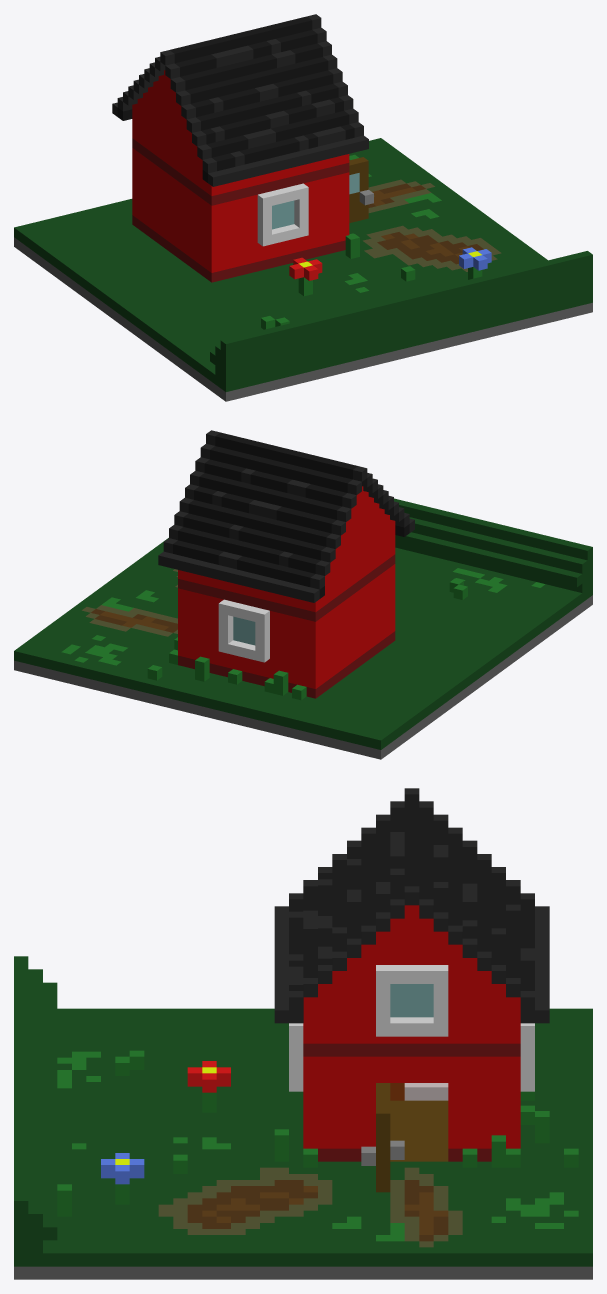
Rendered from town_model-6.obj.
The picture shows the model from 3 angles, top to bottom: view 1: azimuth 30°, elevation 25°; view 2: azimuth 150°, elevation 25°; view 3: azimuth 270°, elevation 25°; orthographic projection. The views are drawn at different scales.
Visible parts, largest first — view 1: town_model-6; view 2: town_model-6; view 3: town_model-6.
Part boxes in pixels (bbox=[...]): town_model-6: bbox=[14, 14, 592, 401]; town_model-6: bbox=[14, 430, 592, 759]; town_model-6: bbox=[14, 788, 592, 1279].
Size of the model in its own units: 40 by 23 by 40.
1 material, 1 textured.
